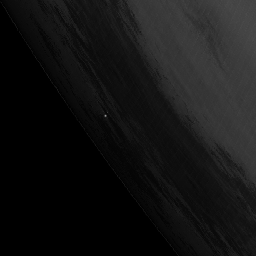Target: (103, 113, 108, 118)
